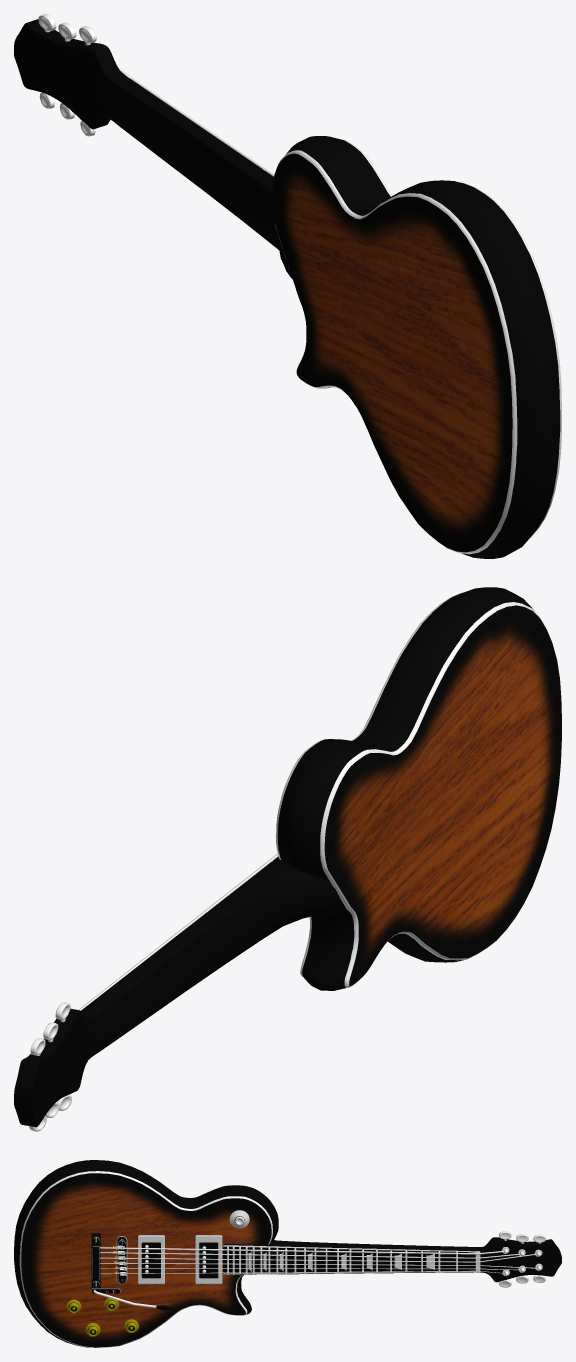
File: compressed_guitar.glb
3 views of the same model, one above another, from view 1: azimuth 30°, elevation 25°; view 2: azimuth 150°, elevation 25°; view 3: azimuth 270°, elevation 25° (orthographic). The views are drawn at different scales.
Parts seen in each view (by area): view 1: pCube64; view 2: pCube64; view 3: pCube64.
Boxes of the visible parts, bbox=[...] form: pCube64: bbox=[14, 14, 561, 558]; pCube64: bbox=[14, 587, 561, 1131]; pCube64: bbox=[14, 1160, 561, 1347].
Bounding box in the file's own units: 0.751 × 3.46 × 9.3.
Materials: 13 (2 with a texture image).
